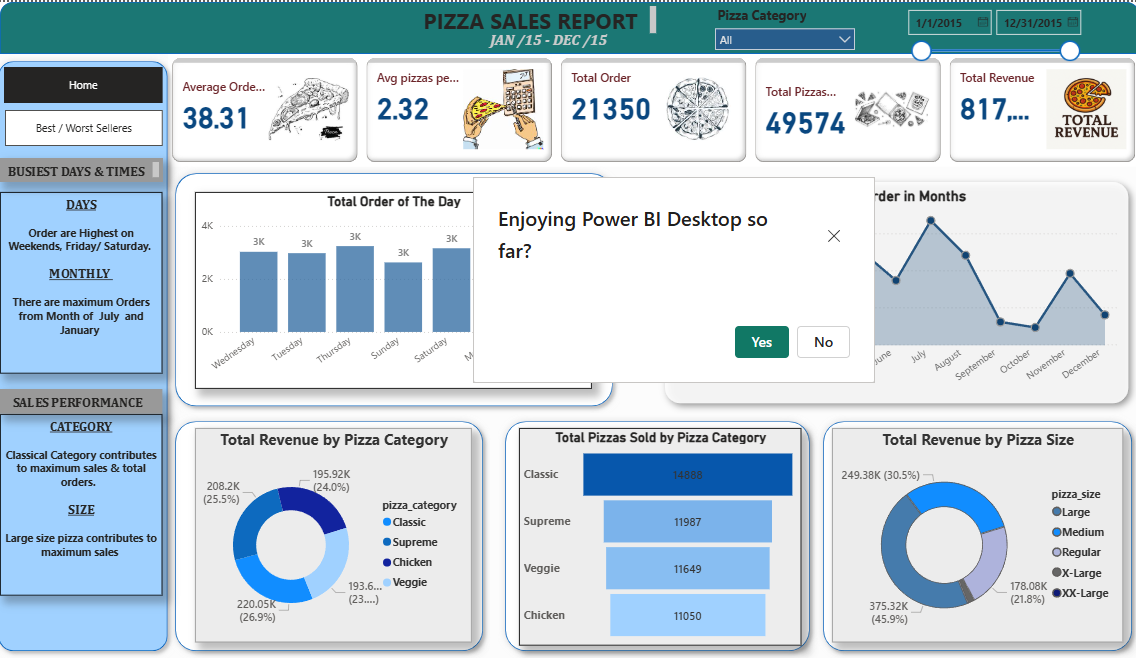

This screenshot's page, from the dashboard's own definition file:
{"tool":"powerbi","page":{"name":"Home","canvas":[1500,820],"ordinal":0},"visuals":[{"type":"cardVisual","fields":{"Data":["select","pizza_sales.Average Order Value","pizza_sales.Avg pizzas per Order","pizza_sales.Total Order","pizza_sales.Total Pizzas Sold","pizza_sales.Total Revenue"]},"box":[247.3,64.9,1214.9,140.5],"z":0},{"type":"shape","box":[37.8,0,1424.3,64.9],"z":1000},{"type":"shape","box":[25.7,64.9,229.7,755.4],"z":2000},{"type":"textbox","box":[554.1,0,309.5,44.6],"z":3000},{"type":"textbox","box":[627,31.1,195.9,33.8],"z":4000},{"type":"shape","box":[247.3,205.4,564.9,309.5],"z":5000},{"type":"columnChart","title":"Total Order of The Day","fields":{"Category":["pizza_sales.Day Name"],"Y":["pizza_sales.Total Order","pizza_sales.Order day"]},"box":[281.1,237.8,495.9,245.9],"z":6000},{"type":"shape","box":[855.4,210.8,606.8,304.1],"z":7000},{"type":"areaChart","title":"Total Order in Months","fields":{"Category":["pizza_sales.Month Name"],"Y":["pizza_sales.Total Order"]},"box":[877,231.1,563.5,264.9],"z":8000},{"type":"shape","box":[247.3,514.9,402.7,305.4],"z":9000},{"type":"shape","box":[659.5,514.9,398.6,305.4],"z":10000},{"type":"shape","box":[1058.1,514.9,404.1,305.4],"z":11000},{"type":"donutChart","title":"Total Revenue by Pizza Category","fields":{"Category":["pizza_sales.pizza_category"],"Y":["pizza_sales.Total Revenue"]},"box":[281.1,532.4,345.9,267.6],"z":12000},{"type":"donutChart","title":"Total Revenue by Pizza Size","fields":{"Category":["pizza_sales.pizza_size"],"Y":["pizza_sales.Total Revenue"]},"box":[1077,532.4,363.5,267.6],"z":13000},{"type":"funnel","title":"Total Pizzas Sold by Pizza Category","fields":{"Category":["pizza_sales.pizza_category"],"Y":["pizza_sales.Total Pizzas Sold"]},"box":[686.5,532.4,352.7,271.6],"z":14000},{"type":"textbox","box":[36.2,195.4,204.6,30],"z":15000},{"type":"textbox","box":[37.8,237.8,202.7,227],"z":16000},{"type":"textbox","box":[37.8,514.9,202.7,227],"z":17000},{"type":"textbox","box":[37.8,483.8,202.7,31.1],"z":18000},{"type":"slicer","fields":{"Values":["pizza_sales.pizza_category"]},"box":[921.6,0,194.6,64.9],"z":19000},{"type":"slicer","fields":{"Values":["pizza_sales.order_date"]},"box":[1159.5,0,235.1,116.2],"z":20000},{"type":"pageNavigator","box":[42.5,81.2,198.8,45],"z":20001},{"type":"pageNavigator","box":[43.8,135,197.5,45],"z":20002}]}

Visuals, with their boxes on the page's 1500x820 design canvas (x1, y1, x2, y2). These are canvas units, not pixel positions in the 1136x658 screenshot, which may show the page scaled, cropped or inside an application window:
cardVisual - select x pizza_sales.Average Order Value: left=247, top=65, right=1462, bottom=205
shape: left=38, top=0, right=1462, bottom=65
shape: left=26, top=65, right=255, bottom=820
textbox: left=554, top=0, right=864, bottom=45
textbox: left=627, top=31, right=823, bottom=65
shape: left=247, top=205, right=812, bottom=515
"Total Order of The Day" columnChart: left=281, top=238, right=777, bottom=484
shape: left=855, top=211, right=1462, bottom=515
"Total Order in Months" areaChart: left=877, top=231, right=1440, bottom=496
shape: left=247, top=515, right=650, bottom=820
shape: left=660, top=515, right=1058, bottom=820
shape: left=1058, top=515, right=1462, bottom=820
"Total Revenue by Pizza Category" donutChart: left=281, top=532, right=627, bottom=800
"Total Revenue by Pizza Size" donutChart: left=1077, top=532, right=1440, bottom=800
"Total Pizzas Sold by Pizza Category" funnel: left=686, top=532, right=1039, bottom=804
textbox: left=36, top=195, right=241, bottom=225
textbox: left=38, top=238, right=240, bottom=465
textbox: left=38, top=515, right=240, bottom=742
textbox: left=38, top=484, right=240, bottom=515
slicer - pizza_sales.pizza_category: left=922, top=0, right=1116, bottom=65
slicer - pizza_sales.order_date: left=1160, top=0, right=1395, bottom=116
pageNavigator: left=42, top=81, right=241, bottom=126
pageNavigator: left=44, top=135, right=241, bottom=180
